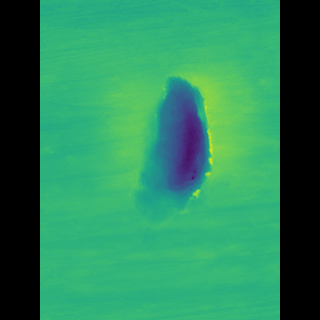Loch: (132, 75, 205, 250)
